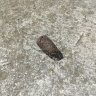Dog: (36, 35, 64, 58)
